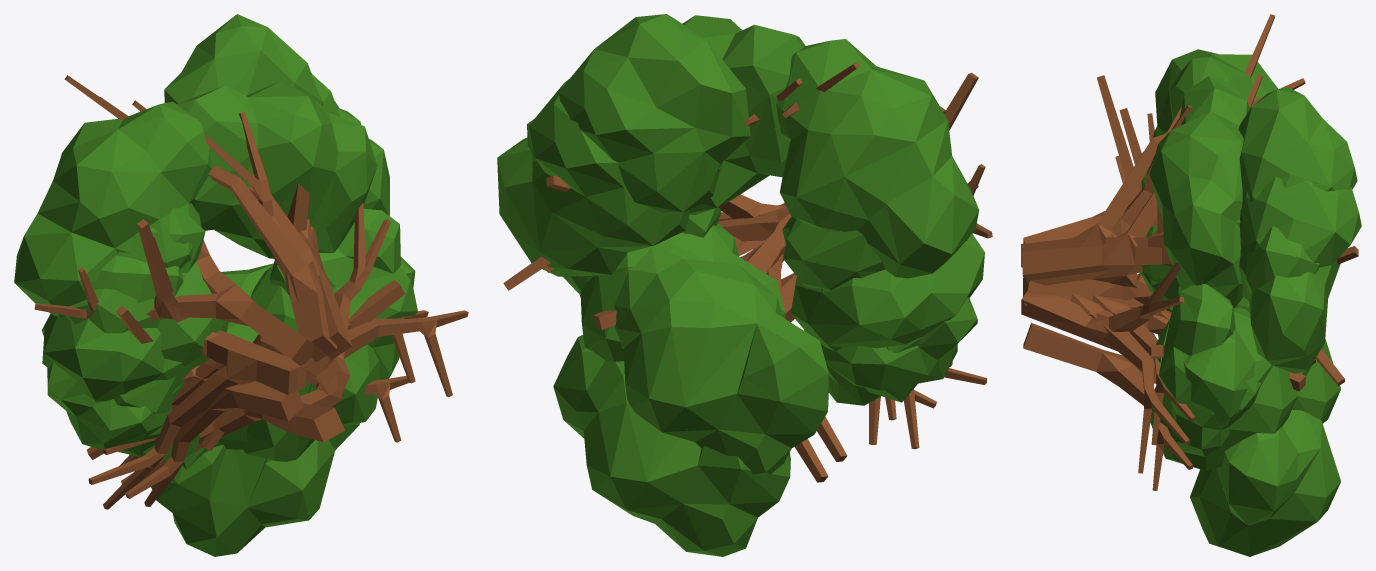
The model's file is Трава 1.fbx.
3 views of the same model, side by side, from view 1: azimuth 30°, elevation 25°; view 2: azimuth 150°, elevation 25°; view 3: azimuth 270°, elevation 25° (orthographic). The views are drawn at different scales.
Visible parts, largest first — view 1: Куб.027, Куб.028, Куб.029; view 2: Куб.027, Куб.029, Куб.028; view 3: Куб.027, Куб.028, Куб.029.
Boxes of the visible parts, x1=… form: Куб.027: x1=14, y1=14, x2=417, y2=556; Куб.028: x1=41, y1=81, x2=428, y2=465; Куб.029: x1=64, y1=74, x2=468, y2=509; Куб.027: x1=527, y1=14, x2=992, y2=556; Куб.029: x1=497, y1=62, x2=986, y2=474; Куб.028: x1=563, y1=15, x2=984, y2=420; Куб.027: x1=1021, y1=49, x2=1357, y2=556; Куб.028: x1=1022, y1=76, x2=1297, y2=471; Куб.029: x1=1021, y1=14, x2=1361, y2=473.
Size of the model in its own units: 604 by 678 by 442.
